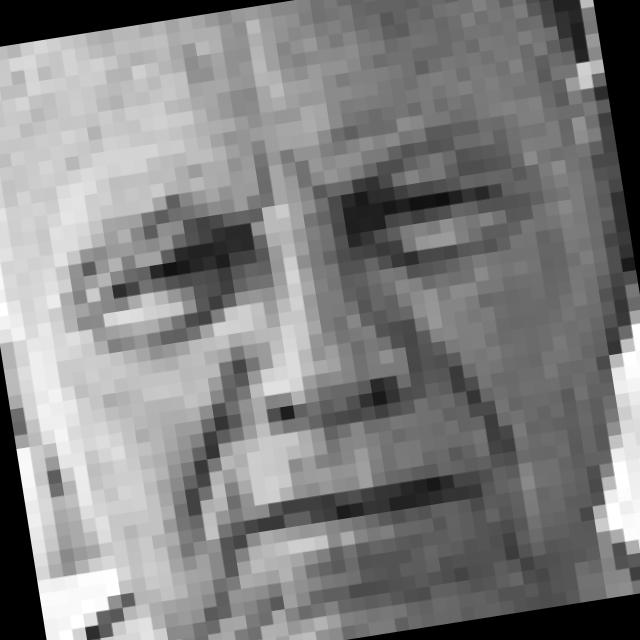neutral: (46, 111, 593, 622)
